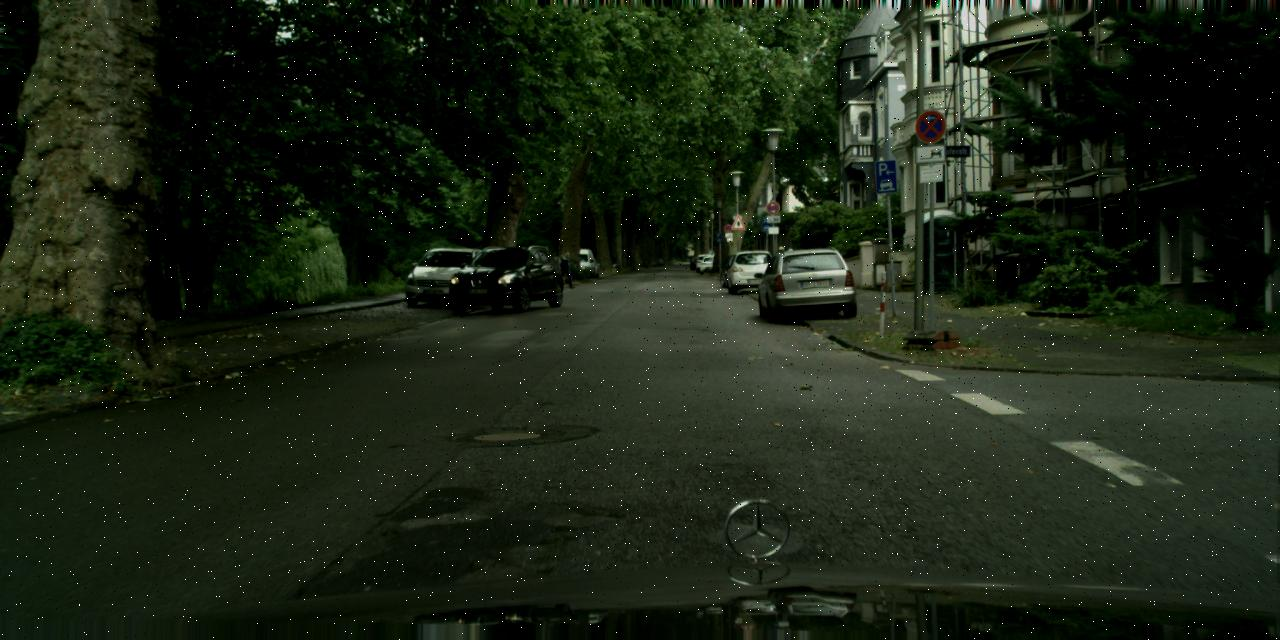ped: (772, 246, 791, 291), (782, 247, 799, 291), (562, 252, 576, 288)
